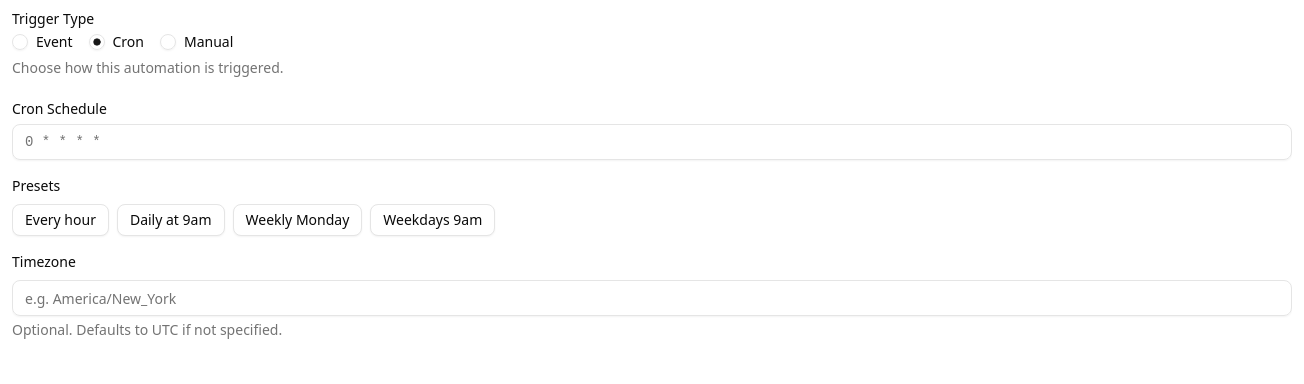
Test: AutomationTriggerStep › Cron trigger type › should apply a preset when clicking a preset button
Click the button "Every hour". click: {"x": 60, "y": 220}
box: x1=12 y1=204 x2=109 y2=236
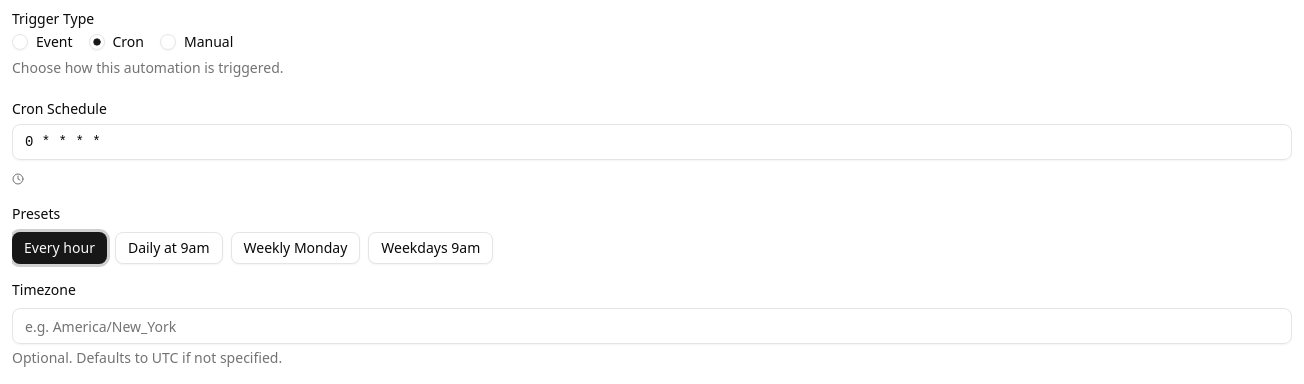
Result: the field with placeholder "0 * * * *" holds "0 * * * *" at x1=12 y1=124 x2=1292 y2=160
